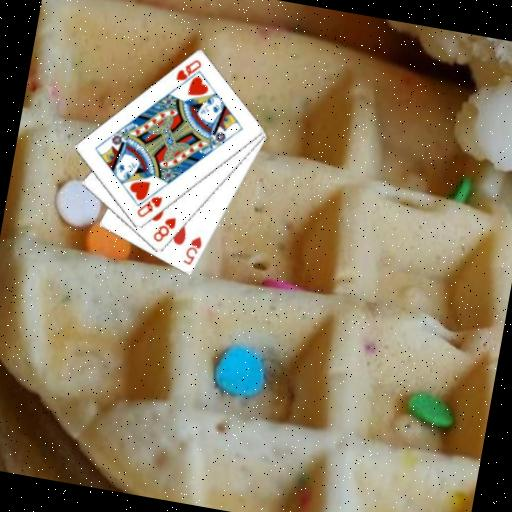5H: (179, 231, 205, 268)
8H: (149, 211, 178, 246)
QH: (171, 53, 205, 93), (132, 190, 164, 222)
